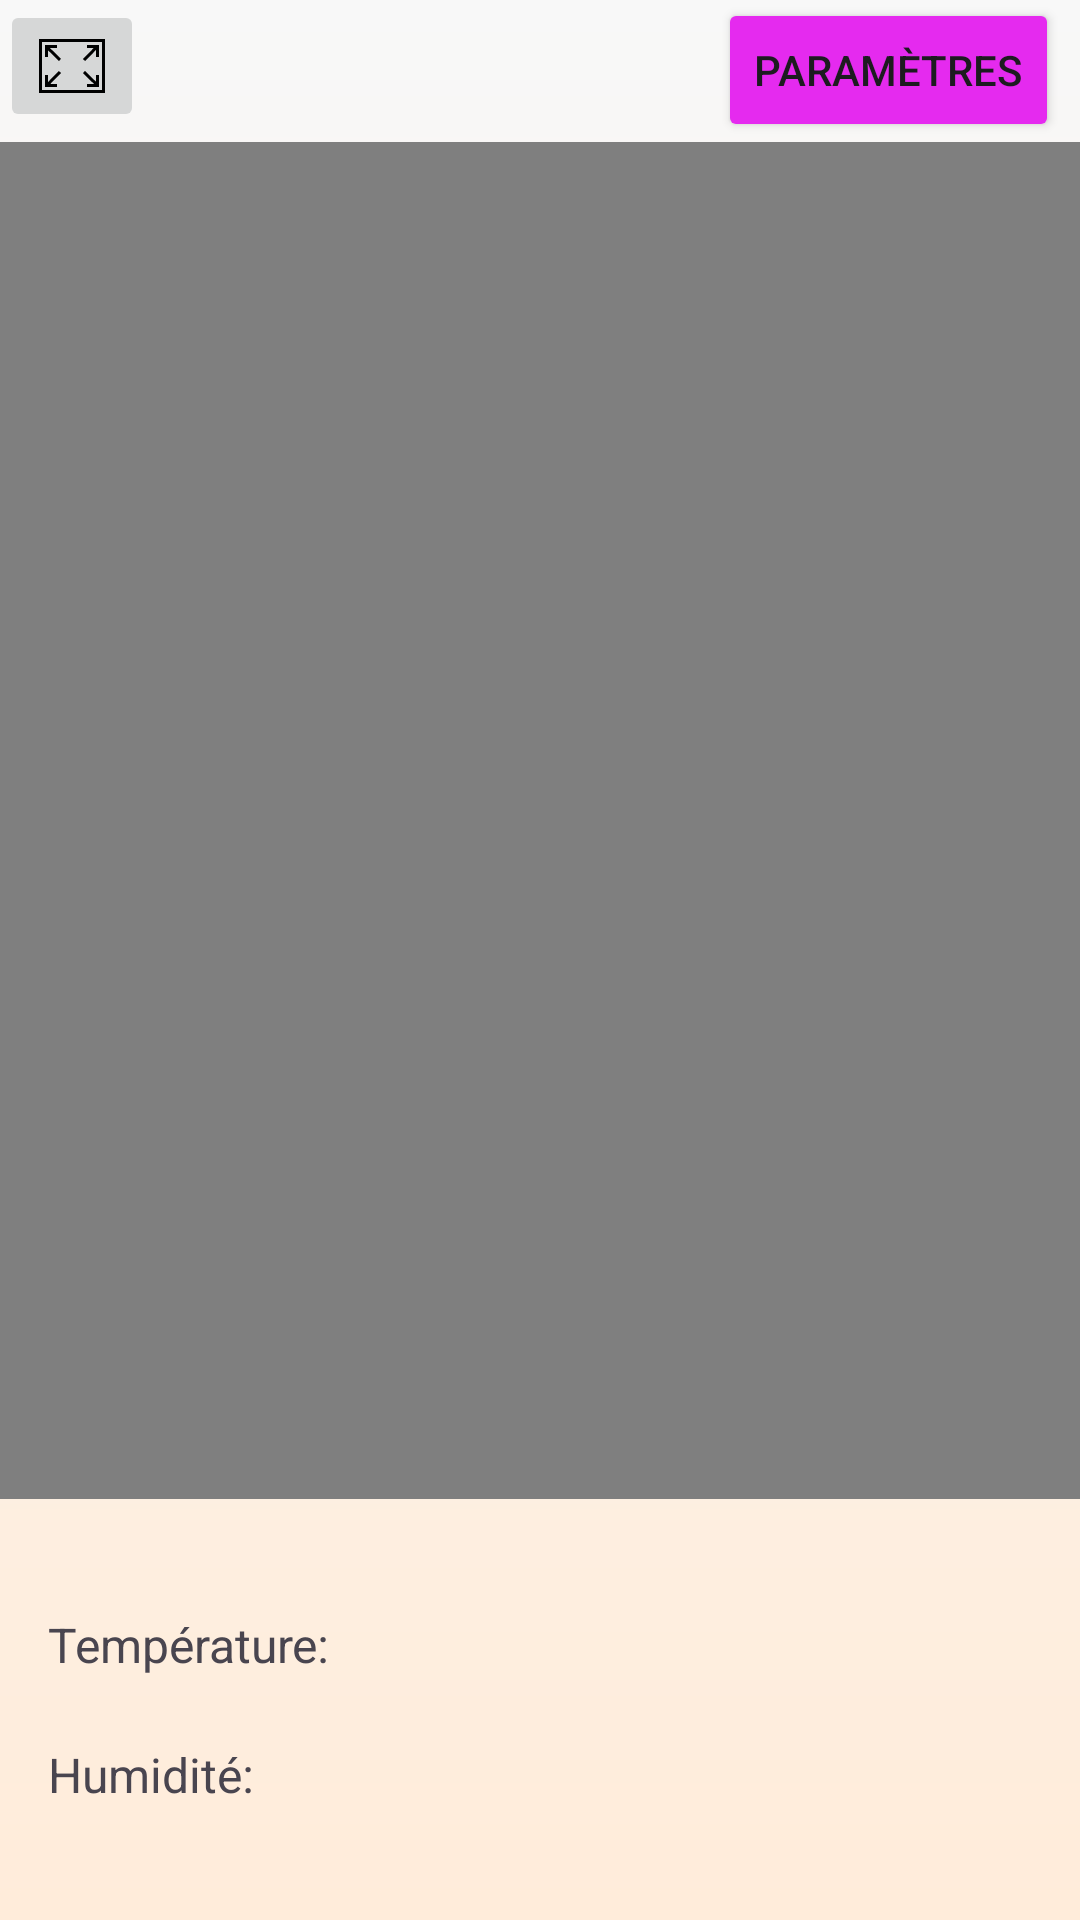

Icon click points for this 1080*1920 phone screenshot, format point (x, y):
full screen: point (72, 66)
